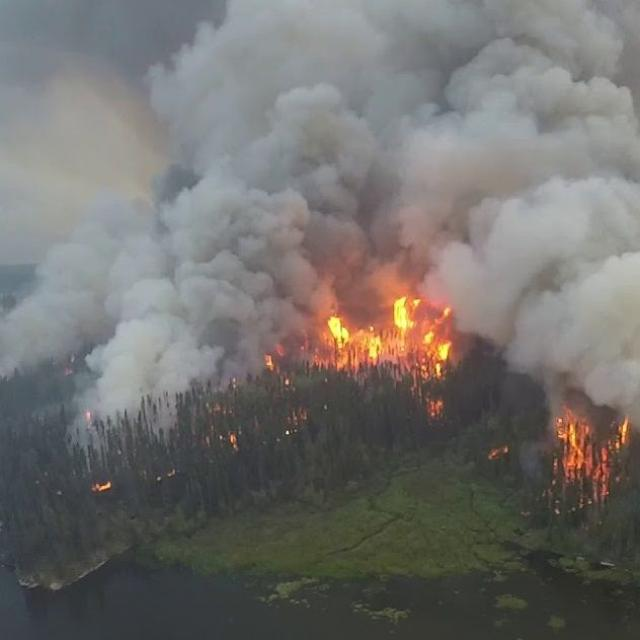Fire: (327, 292, 455, 380), (552, 416, 623, 468)
Smoke: (0, 0, 627, 389)
